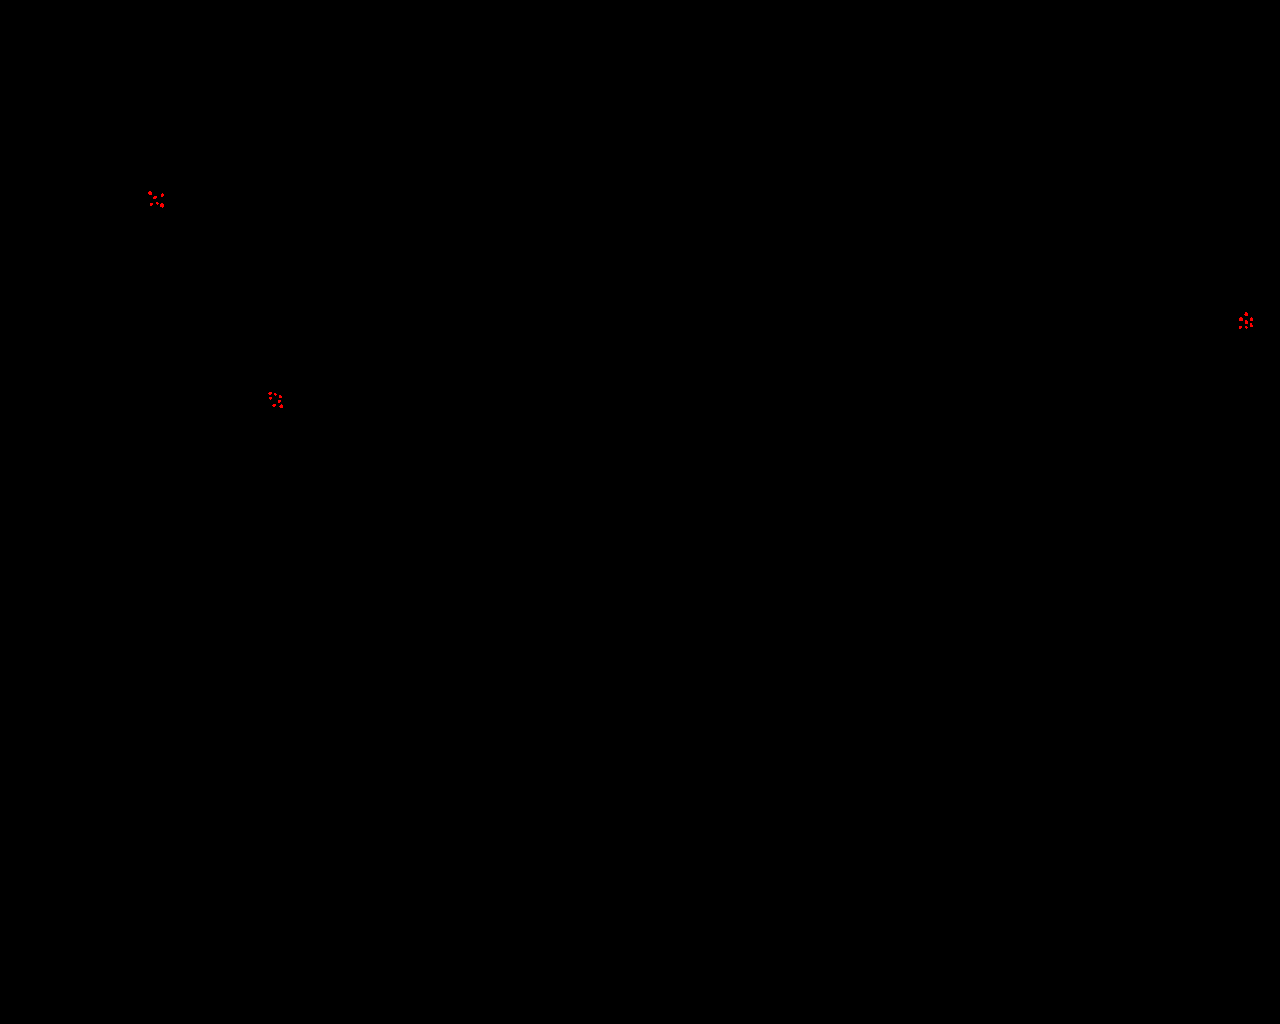Target: (160, 203, 164, 208), (1239, 317, 1243, 321), (148, 191, 152, 195), (161, 193, 164, 197), (1250, 317, 1253, 321), (1250, 323, 1253, 327), (267, 392, 272, 395), (272, 404, 276, 408), (279, 404, 283, 408), (156, 202, 159, 205), (1244, 312, 1248, 316), (1239, 326, 1242, 329), (274, 393, 277, 396), (279, 395, 282, 398), (269, 397, 272, 400), (278, 400, 281, 403), (153, 196, 157, 199), (1246, 320, 1248, 324), (150, 203, 153, 206), (1246, 326, 1248, 329)
